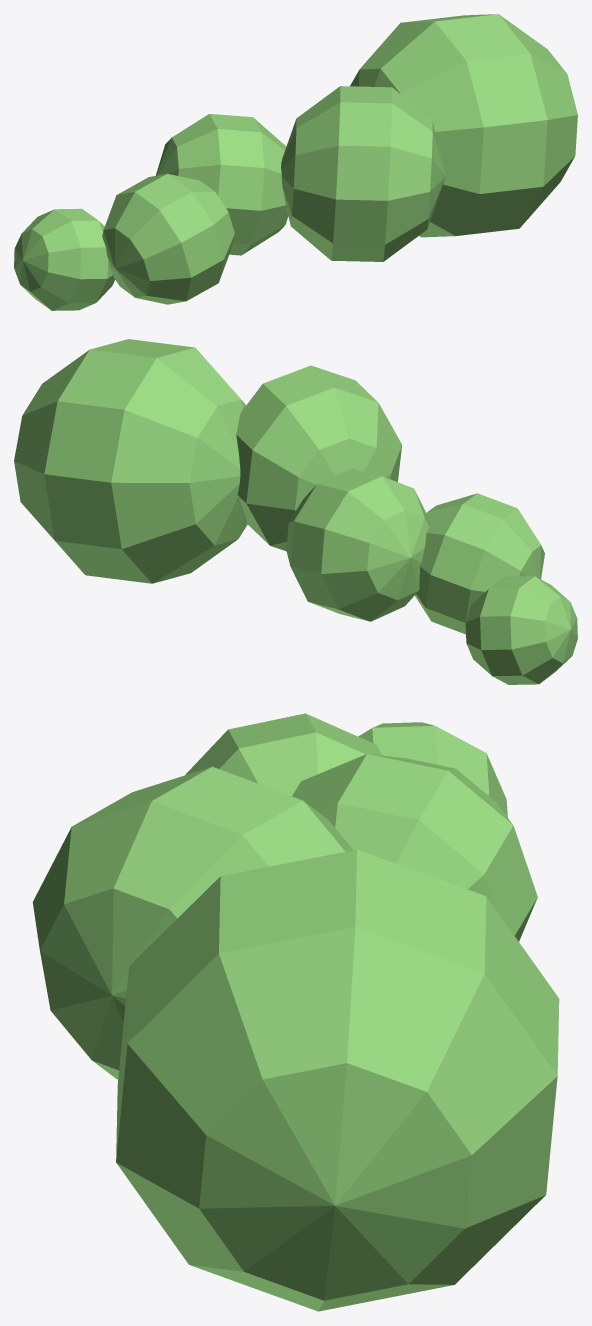
The model's file is bushes_1_2.dae.
3 renders of one model, top to bottom at view 1: azimuth 30°, elevation 25°; view 2: azimuth 150°, elevation 25°; view 3: azimuth 270°, elevation 25°, orthographic. The views are drawn at different scales.
Parts seen in each view (by area): view 1: bushes_1_2; view 2: bushes_1_2; view 3: bushes_1_2.
Boxes of the visible parts, x1,y1,x2,y2 form: bushes_1_2: [14, 14, 577, 310]; bushes_1_2: [14, 339, 577, 684]; bushes_1_2: [32, 713, 559, 1311].
Bounding box in the file's own units: 2.36 × 1.03 × 0.9091.
1 material, 1 textured.
